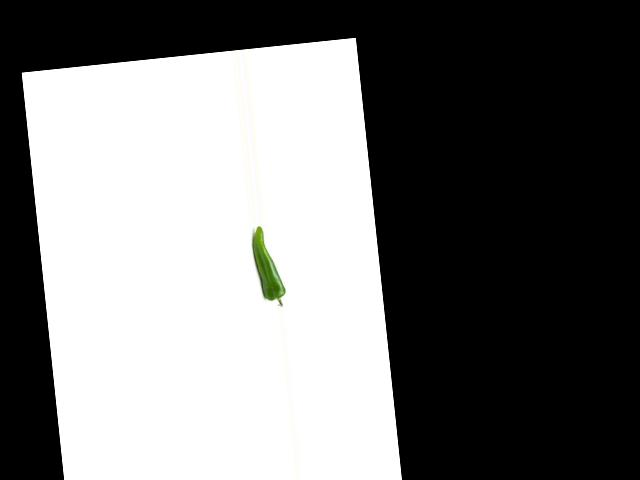bell_pepper: (248, 223, 288, 312)
